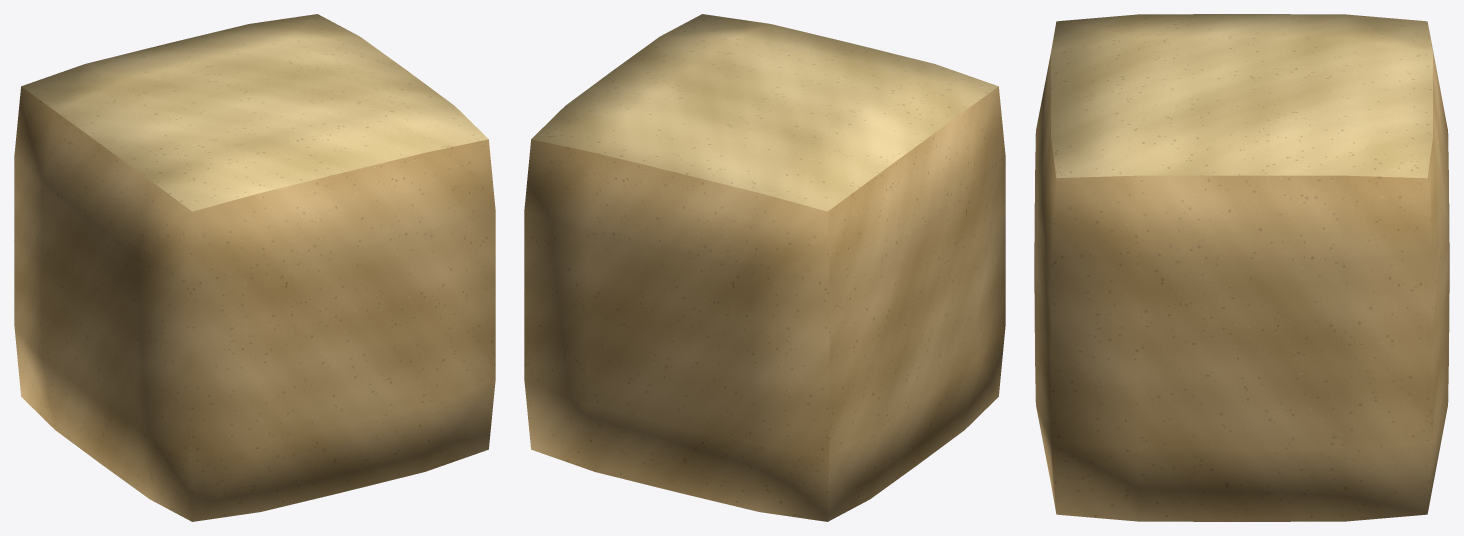
File: sand_single.glb
The picture shows the model from 3 angles, left to right: view 1: azimuth 30°, elevation 25°; view 2: azimuth 150°, elevation 25°; view 3: azimuth 270°, elevation 25°; orthographic projection. The views are drawn at different scales.
Visible parts, largest first — view 1: sand_single; view 2: sand_single; view 3: sand_single.
Boxes of the visible parts, bbox=[...] form: sand_single: bbox=[14, 14, 495, 521]; sand_single: bbox=[524, 14, 1005, 521]; sand_single: bbox=[1034, 14, 1449, 521].
Size of the model in its own units: 1 by 1 by 1.
2 materials, 2 textured.
